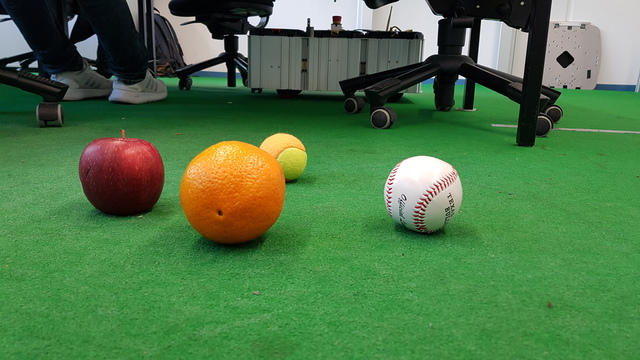013_apple: (78, 129, 167, 216)
017_orange: (177, 140, 286, 244)
056_tennis_ball: (382, 155, 463, 235), (258, 132, 308, 184)
